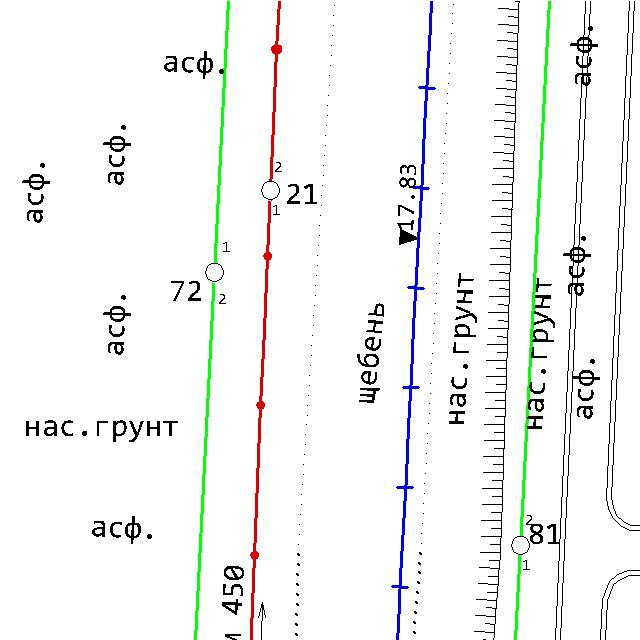asphalt: (100, 292, 133, 358), (560, 234, 594, 298), (101, 122, 134, 187), (91, 513, 153, 547), (161, 48, 226, 80), (568, 24, 600, 89), (20, 160, 51, 225), (572, 356, 602, 420)
mark: (397, 227, 420, 248)
well: (258, 177, 284, 204), (508, 532, 533, 558), (202, 260, 227, 285)
